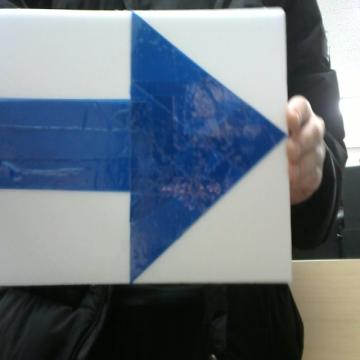blue_right: (0, 13, 285, 280)
